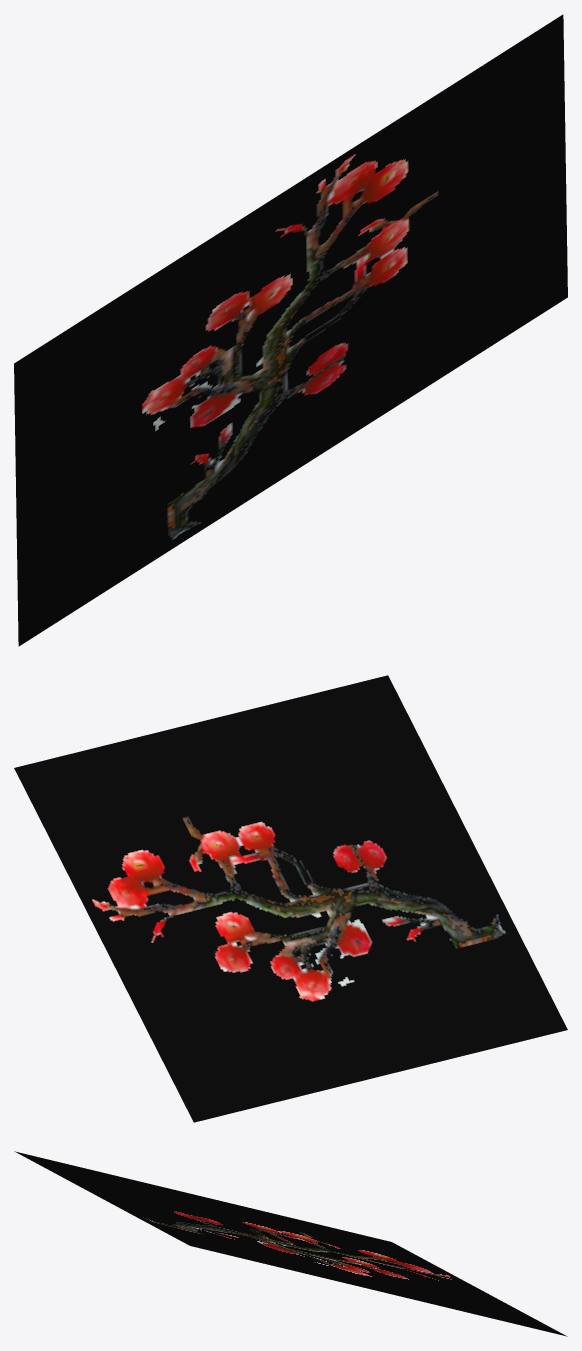
File: H1_RPl_Cherry3.gltf
3 views of the same model, one above another, from view 1: azimuth 30°, elevation 25°; view 2: azimuth 150°, elevation 25°; view 3: azimuth 270°, elevation 25° (orthographic). The views are drawn at different scales.
Parts seen in each view (by area): view 1: H1_RPl_Cherry3; view 2: H1_RPl_Cherry3; view 3: H1_RPl_Cherry3.
Part boxes in pixels (x1=…): H1_RPl_Cherry3: x1=14, y1=14, x2=567, y2=646; H1_RPl_Cherry3: x1=14, y1=675, x2=567, y2=1122; H1_RPl_Cherry3: x1=14, y1=1151, x2=567, y2=1336.
Size of the model in its own units: 1.3 by 0.6164 by 1.37.
1 material, 1 textured.
